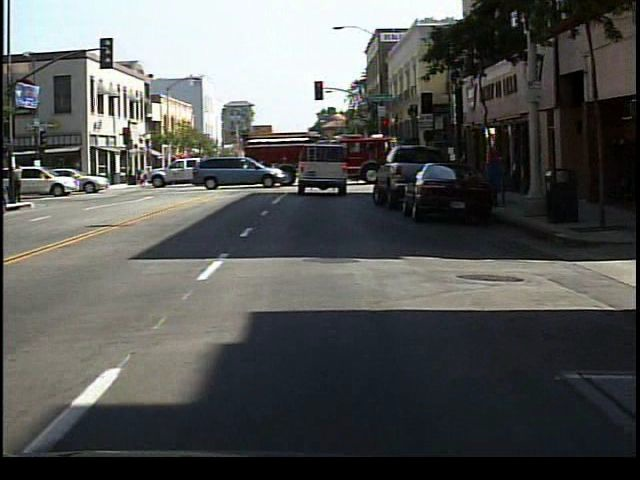person: (14, 162, 27, 207)
